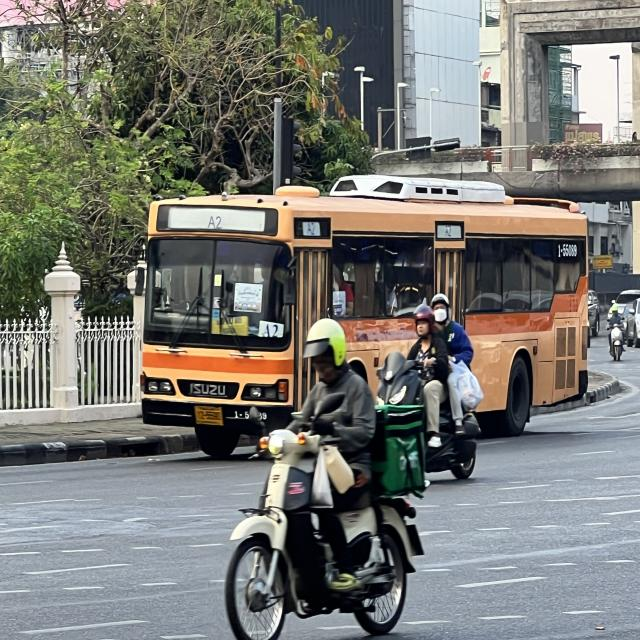BMTA-bus: (136, 178, 590, 459)
Bus Line Number: (202, 212, 231, 233)
Bus Side Number: (231, 409, 269, 422)
Destination Sign: (210, 317, 249, 335)
